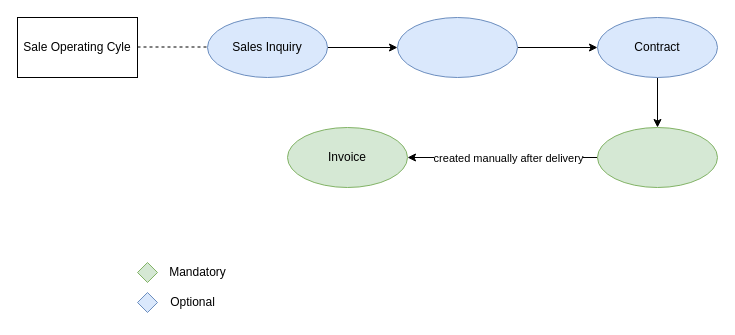
Image size: 735x335. Some labels were removed from this diagram. Here are the shapes that lost their labels. From the top down, the centre of each, then its label:
At [457,47]: "Sales Quotation".
At [657,157]: "Sales Order".
